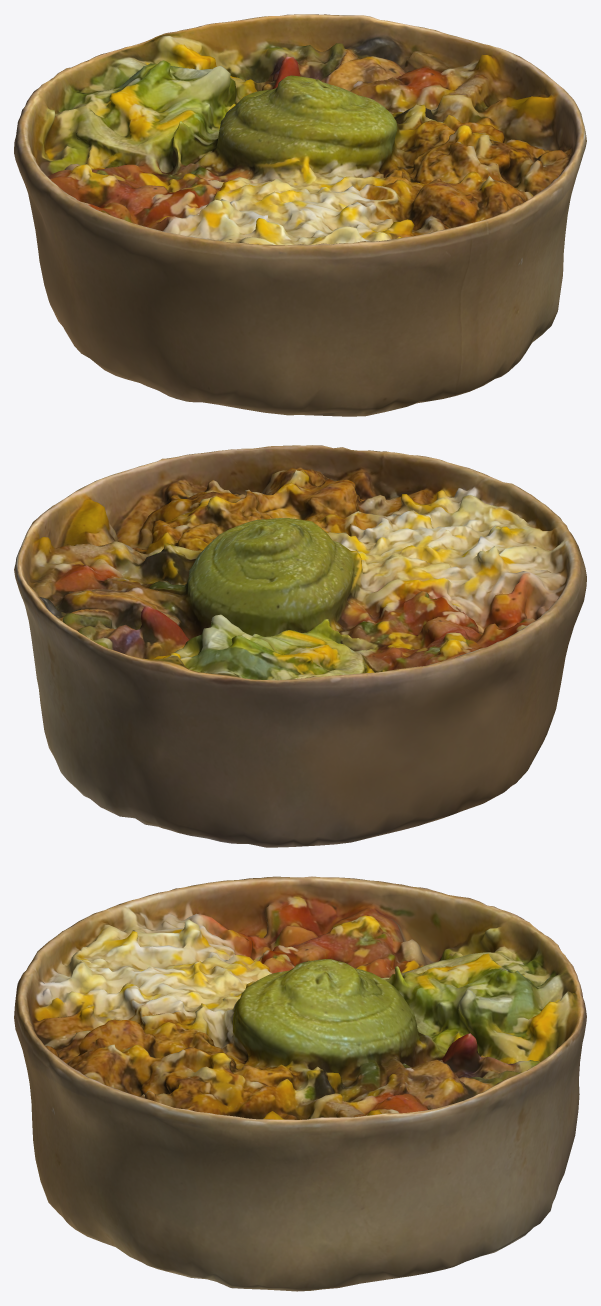
File: Burrito_Bowl(Burritos_Category)_1757459922075.glb
3 renders of one model, top to bottom at view 1: azimuth 30°, elevation 25°; view 2: azimuth 150°, elevation 25°; view 3: azimuth 270°, elevation 25°, orthographic. The views are drawn at different scales.
Parts seen in each view (by area): view 1: 3D_Model; view 2: 3D_Model; view 3: 3D_Model.
Part boxes in pixels (x1,y1,x2,y2): 3D_Model: [14, 14, 586, 416]; 3D_Model: [14, 445, 586, 847]; 3D_Model: [14, 876, 586, 1291].
Size of the model in its own units: 0.1866 by 0.0821 by 0.1836.
1 material, 1 textured.
